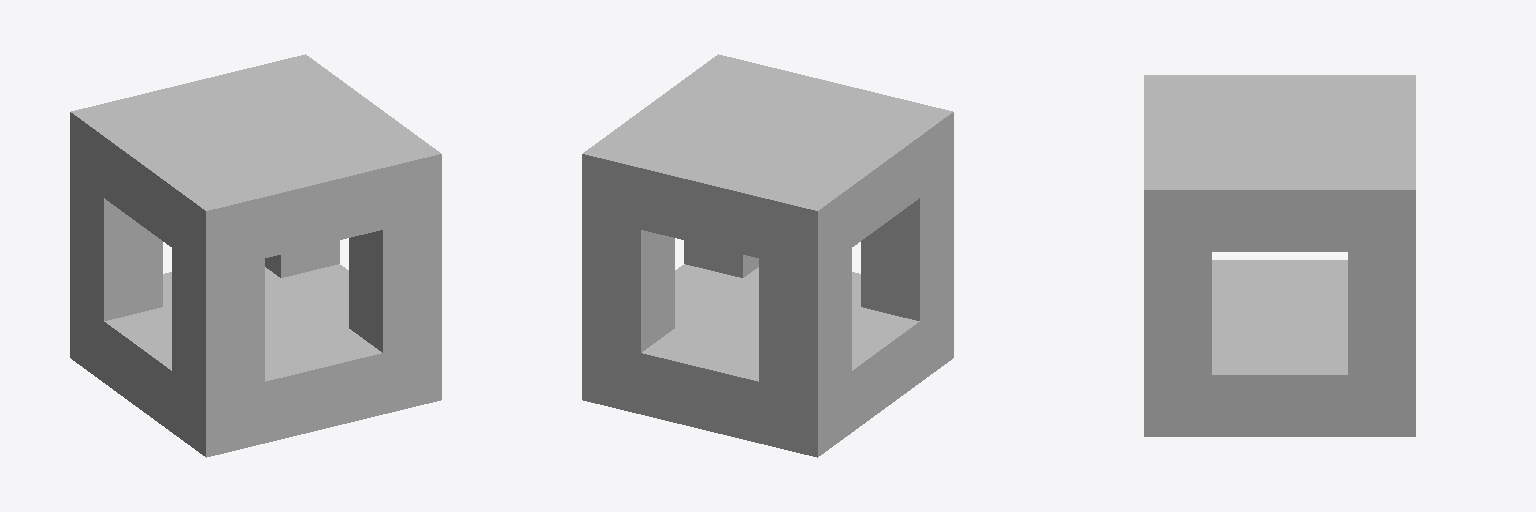
The model's file is tower.obj.
3 views of the same model, side by side, from view 1: azimuth 30°, elevation 25°; view 2: azimuth 150°, elevation 25°; view 3: azimuth 270°, elevation 25° (orthographic).
Visible parts, largest first — view 1: Cube_Cube.002; view 2: Cube_Cube.002; view 3: Cube_Cube.002.
Boxes of the visible parts, <box> form: Cube_Cube.002: <box>70,54,441,457</box>; Cube_Cube.002: <box>582,54,953,457</box>; Cube_Cube.002: <box>1144,75,1415,436</box>.
Bounding box in the file's own units: 2 × 2 × 2.